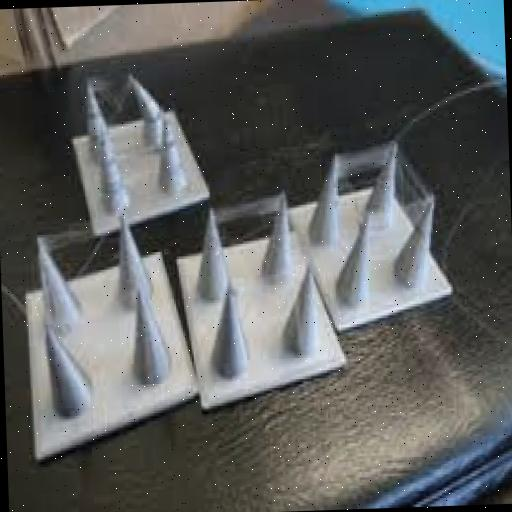stringing: (392, 152, 438, 236), (42, 213, 120, 259), (216, 190, 280, 232), (334, 138, 394, 180), (91, 66, 137, 114)
